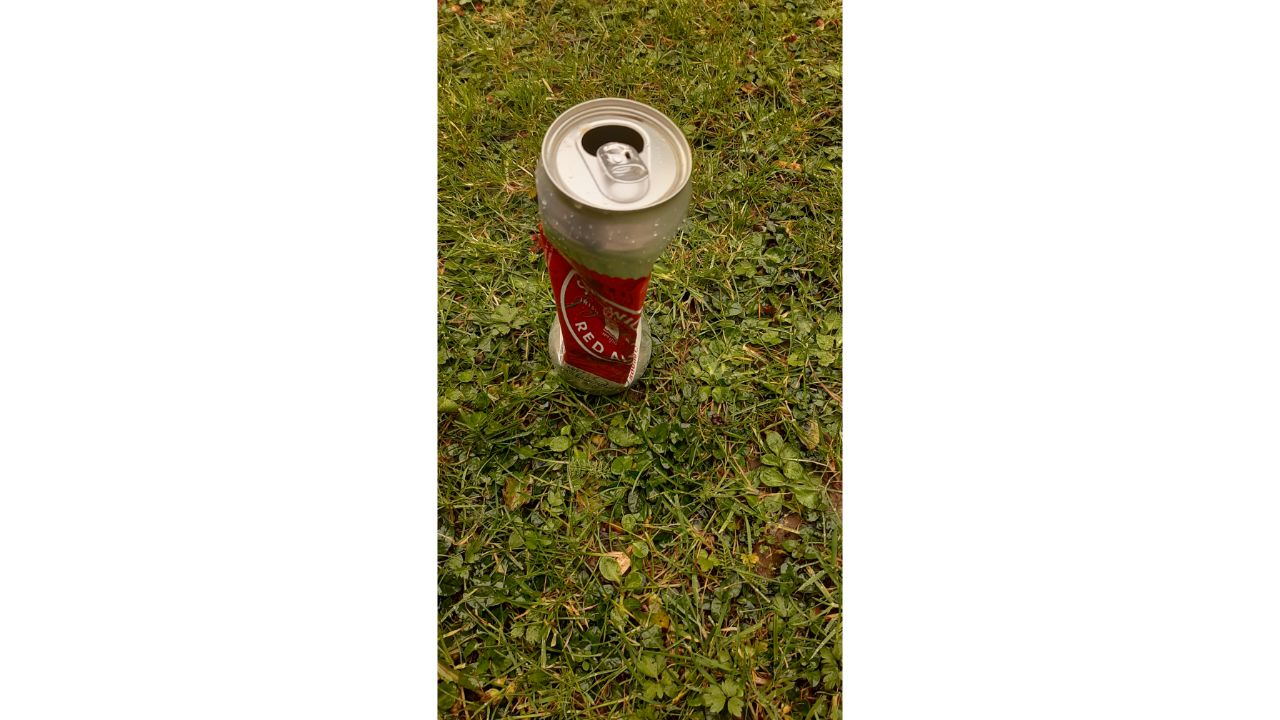Can: (534, 100, 691, 393)
